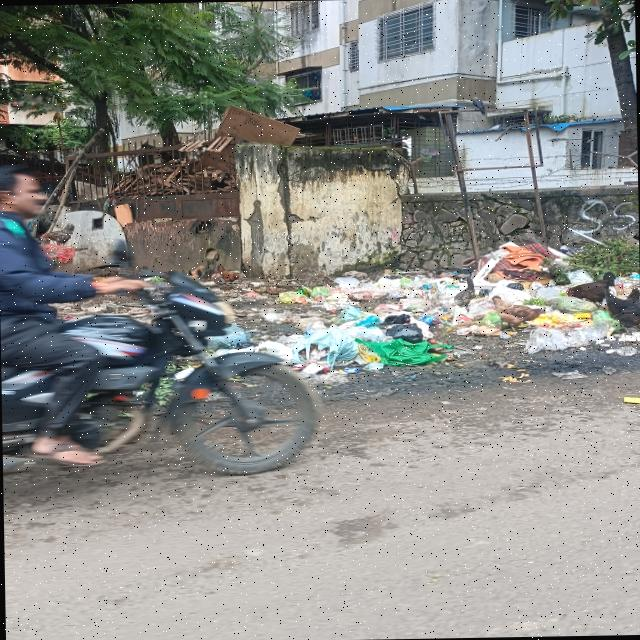garbage: (279, 276, 478, 371), (477, 242, 640, 351)
